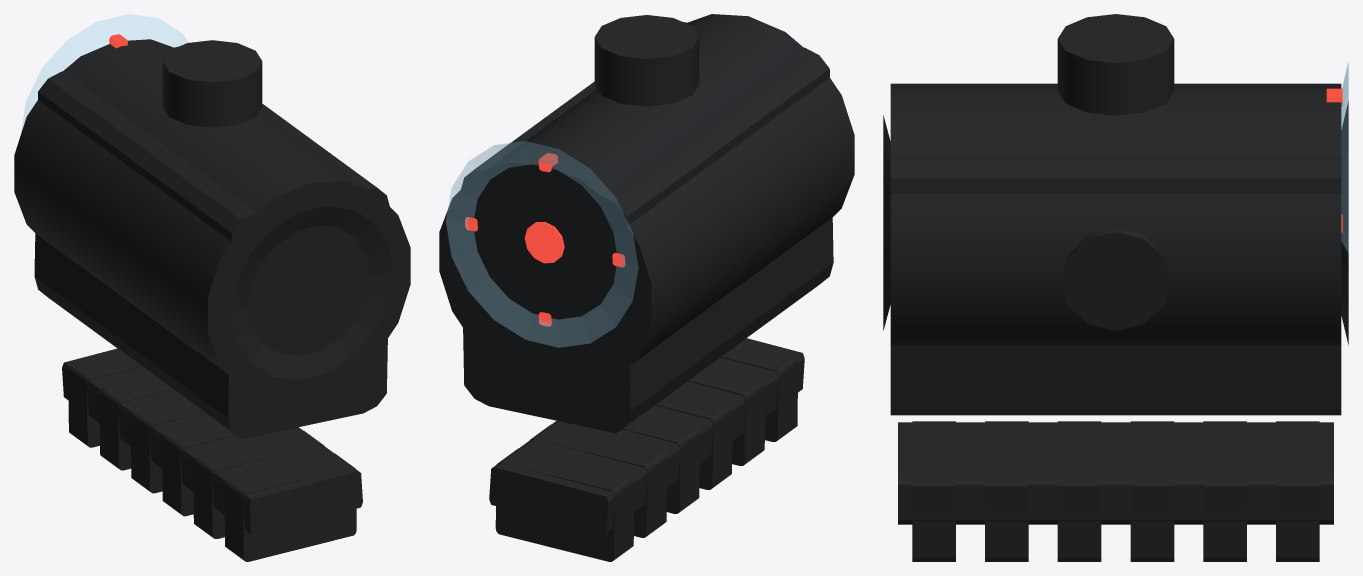
File: attachment_sniper_reddot.glb
3 views of the same model, side by side, from view 1: azimuth 30°, elevation 25°; view 2: azimuth 150°, elevation 25°; view 3: azimuth 270°, elevation 25° (orthographic). The views are drawn at different scales.
Visible parts, largest first — view 1: attachment_sniper_reddot__sniper_reddot__sniper_reddot__body, attachment_sniper_reddot__sniper_reddot__sniper_reddot__lens; view 2: attachment_sniper_reddot__sniper_reddot__sniper_reddot__body, attachment_sniper_reddot__sniper_reddot__sniper_reddot__lens, attachment_sniper_reddot__sniper_reddot__sniper_reddot__reti; view 3: attachment_sniper_reddot__sniper_reddot__sniper_reddot__body, attachment_sniper_reddot__sniper_reddot__sniper_reddot__lens.
Boxes of the visible parts, bbox=[...] form: attachment_sniper_reddot__sniper_reddot__sniper_reddot__body: bbox=[14, 39, 410, 561]; attachment_sniper_reddot__sniper_reddot__sniper_reddot__lens: bbox=[21, 14, 188, 132]; attachment_sniper_reddot__sniper_reddot__sniper_reddot__body: bbox=[439, 14, 854, 561]; attachment_sniper_reddot__sniper_reddot__sniper_reddot__lens: bbox=[446, 141, 638, 347]; attachment_sniper_reddot__sniper_reddot__sniper_reddot__reti: bbox=[465, 153, 625, 326]; attachment_sniper_reddot__sniper_reddot__sniper_reddot__body: bbox=[883, 14, 1348, 561]; attachment_sniper_reddot__sniper_reddot__sniper_reddot__lens: bbox=[1341, 61, 1348, 252].
Size of the model in its own units: 0.0377 by 0.0749 by 0.064.
